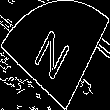N_SW: (32, 23, 78, 87)
